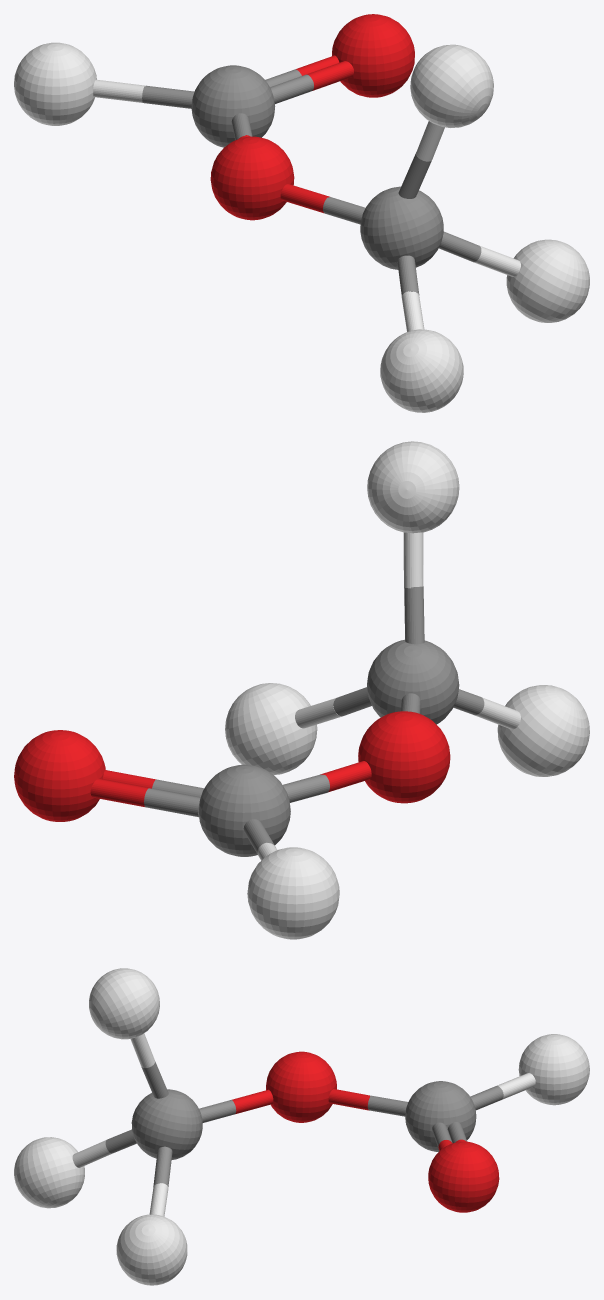
Rendered from dimethylester.fbx.
The picture shows the model from 3 angles, top to bottom: view 1: azimuth 30°, elevation 25°; view 2: azimuth 150°, elevation 25°; view 3: azimuth 270°, elevation 25°; orthographic projection. The views are drawn at different scales.
Parts seen in each view (by area): view 1: Sphere.013, Sphere.015, Sphere.014, Sphere.003, Sphere.002, Sphere.008, Sphere.001, Sphere.005, Cylinder.025, Cylinder.027, Cylinder.004, Cylinder.024 (+8 smaller); view 2: Sphere.014, Sphere.015, Sphere.003, Sphere.008, Sphere.013, Sphere.002, Sphere.005, Sphere.001, Cylinder.028, Cylinder.029, Cylinder.010, Cylinder.016 (+5 smaller); view 3: Sphere.002, Sphere.008, Sphere.015, Sphere.013, Sphere.003, Sphere.014, Sphere.001, Sphere.005, Cylinder.009, Cylinder.004, Cylinder.013, Cylinder.022 (+8 smaller).
Boxes of the visible parts, box(x1,y1,x2,y2) form: Sphere.013: box(380, 329, 463, 412); Sphere.015: box(410, 44, 493, 127); Sphere.014: box(14, 42, 96, 125); Sphere.003: box(210, 136, 294, 220); Sphere.002: box(506, 239, 589, 322); Sphere.008: box(332, 14, 414, 97); Sphere.001: box(360, 186, 443, 269); Sphere.005: box(191, 65, 275, 147); Cylinder.025: box(142, 85, 194, 108); Cylinder.027: box(93, 79, 145, 102); Cylinder.004: box(280, 184, 329, 213); Cylinder.024: box(474, 246, 520, 276); Sphere.014: box(247, 847, 339, 939); Sphere.015: box(367, 441, 459, 533); Sphere.003: box(358, 711, 450, 803); Sphere.008: box(14, 730, 105, 821); Sphere.013: box(497, 685, 589, 776); Sphere.002: box(225, 683, 317, 774); Sphere.005: box(198, 764, 290, 856); Sphere.001: box(367, 639, 459, 724); Cylinder.028: box(404, 586, 424, 644); Cylinder.029: box(403, 532, 423, 588); Cylinder.010: box(144, 788, 200, 817); Cylinder.016: box(90, 779, 148, 806); Sphere.002: box(116, 1214, 187, 1285); Sphere.008: box(428, 1141, 499, 1212); Sphere.015: box(89, 968, 159, 1039); Sphere.013: box(14, 1137, 84, 1208); Sphere.003: box(266, 1051, 336, 1122); Sphere.014: box(518, 1034, 589, 1105); Sphere.001: box(131, 1089, 202, 1159); Sphere.005: box(405, 1081, 476, 1151); Cylinder.009: box(328, 1089, 369, 1110); Cylinder.004: box(232, 1089, 273, 1114); Cylinder.013: box(367, 1095, 408, 1116); Cylinder.022: box(153, 1146, 172, 1186).
Bounding box in the file's own units: 70.55 × 62.08 × 123.
